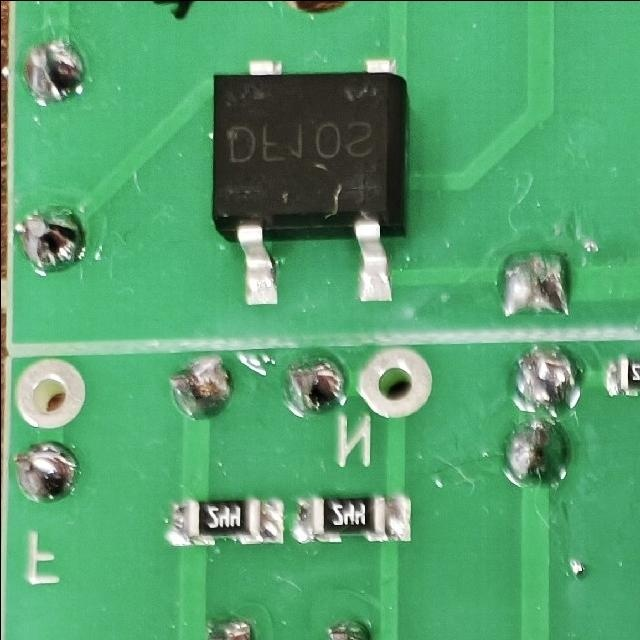chip-resistor: (291, 490, 413, 545), (161, 493, 283, 547)
ic: (206, 54, 411, 311)
